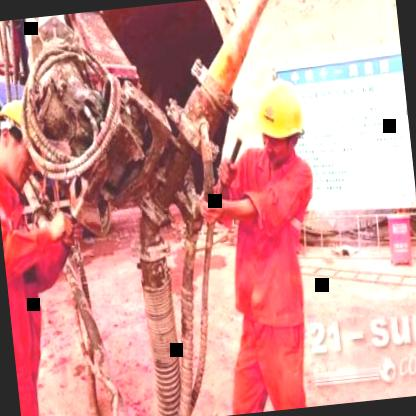helmet: (250, 70, 318, 168), (0, 96, 59, 192)
